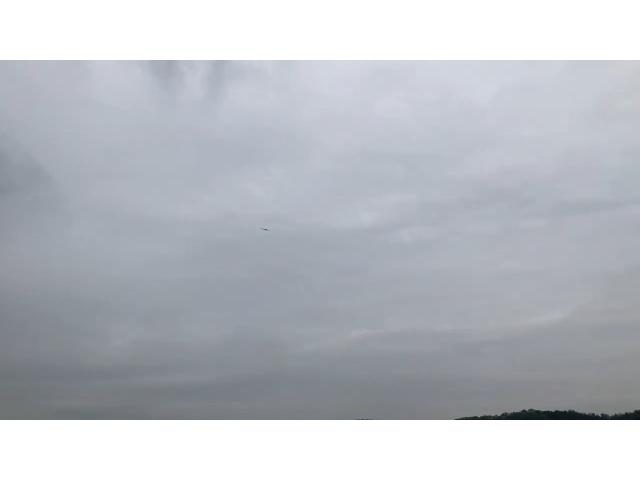Anti-Drone: (254, 225, 274, 237)
